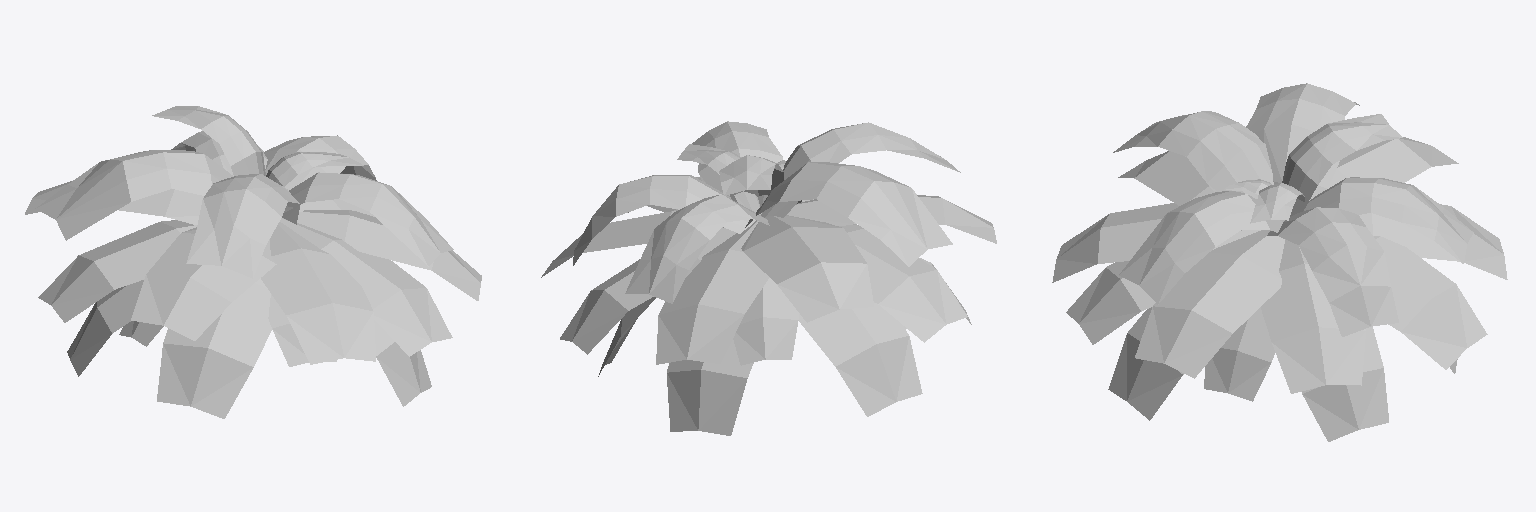
File: palmtreeleaves.obj
3 renders of one model, left to right at view 1: azimuth 30°, elevation 25°; view 2: azimuth 150°, elevation 25°; view 3: azimuth 270°, elevation 25°, orthographic.
Bounding box in the file's own units: 37.64 × 22.38 × 37.93.